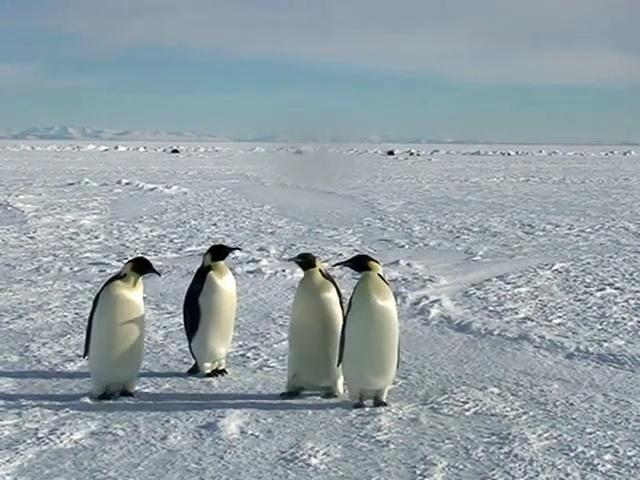animal: (336, 255, 398, 407)
